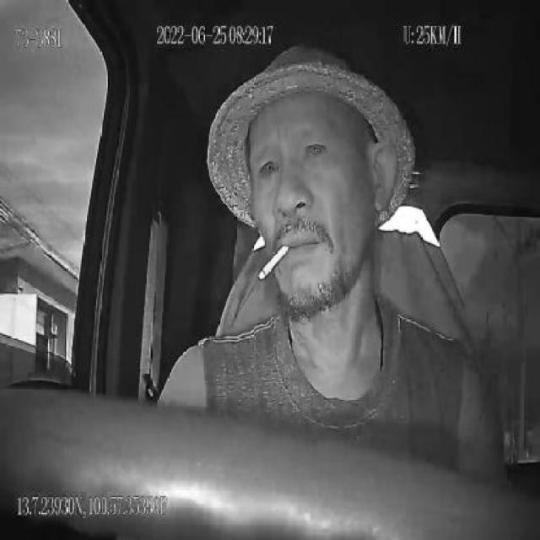smoking: (257, 239, 292, 282)
